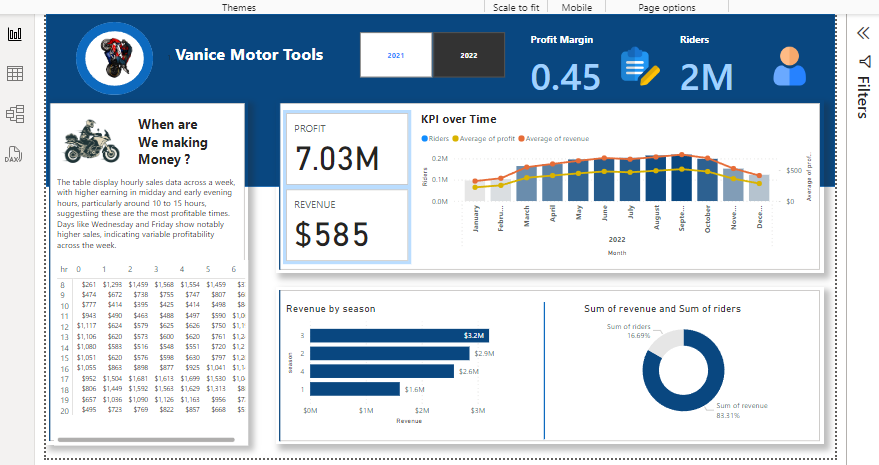

What the dashboard file says about the page in this screenshot:
{"tool":"powerbi","page":{"name":"Page 1","canvas":[1280,720],"ordinal":0},"visuals":[{"type":"shape","box":[0,0,1280,280],"z":0},{"type":"cardVisual","fields":{"Data":["Min(Query1.riders)"]},"box":[0,140.2,327.1,558.7],"z":1000},{"type":"cardVisual","fields":{"Data":["Min(Query1.riders)"]},"box":[372.5,140,887.5,280],"z":2000},{"type":"cardVisual","fields":{"Data":["Min(Query1.riders)"]},"box":[372.5,442.5,887.5,255],"z":3000},{"type":"cardVisual","fields":{"Data":["Min(Query1.riders)"]},"box":[0,140.2,144.3,117.8],"z":4000},{"type":"pivotTable","fields":{"Values":["Avg(Query1.revenue)"],"Columns":["Query1.weekday"],"Rows":["Query1.hr"]},"box":[12.2,398.2,314.9,300.7],"z":5000},{"type":"textbox","box":[144.3,158.5,140.2,99.6],"z":6000},{"type":"textbox","box":[12.2,258,300.7,140.2],"z":7000},{"type":"lineClusteredColumnComboChart","title":"KPI  over Time","fields":{"Category":["Query1.dteday.Variation.Date Hierarchy.Year","Query1.dteday.Variation.Date Hierarchy.Month","Query1.dteday.Variation.Date Hierarchy.Day"],"Y":["Sum(Query1.riders)"],"Y2":["Avg(Query1.profit)","Avg(Query1.revenue)"]},"box":[602.5,157.5,645,240],"z":8000},{"type":"clusteredBarChart","fields":{"Category":["Query1.season"],"Y":["Sum(Query1.revenue)"]},"box":[385,467.5,382.5,202.5],"z":9000},{"type":"donutChart","fields":{"Y":["Sum(Query1.revenue)","Sum(Query1.riders)"]},"box":[867.5,467.5,332.5,202.5],"z":10000},{"type":"shape","box":[800,467.5,17.5,222.5],"z":11000},{"type":"cardVisual","title":"KPI  over Time","fields":{"Data":["Sum(Query1.profit)","Avg(Query1.revenue)"]},"box":[385,155,208.3,250],"z":12000},{"type":"cardVisual","fields":{"Data":["Query1.Profit Margin","Sum(Query1.riders)"]},"box":[768.3,13.3,486.7,118.3],"z":13000},{"type":"shape","box":[48.3,13.3,125,118.3],"z":14000},{"type":"image","box":[61.6,19.5,87.6,89.2],"z":15000},{"type":"textbox","box":[186.7,40,280,65],"z":16000},{"type":"slicer","fields":{"Values":["Query1.yr"]},"box":[483.3,23.3,285,86.7],"z":16001}]}

Visuals, with their boxes on the page's 1280x720 design canvas (x1, y1, x2, y2). These are canvas units, not pixel positions in the 879x465 screenshot, which may show the page scaled, cropped or inside an application window:
shape: box=[0, 0, 1280, 280]
cardVisual - Min(Query1.riders): box=[0, 140, 327, 699]
cardVisual - Min(Query1.riders): box=[372, 140, 1260, 420]
cardVisual - Min(Query1.riders): box=[372, 442, 1260, 698]
cardVisual - Min(Query1.riders): box=[0, 140, 144, 258]
pivotTable - Avg(Query1.revenue) x Query1.weekday: box=[12, 398, 327, 699]
textbox: box=[144, 158, 284, 258]
textbox: box=[12, 258, 313, 398]
"KPI  over Time" lineClusteredColumnComboChart: box=[602, 158, 1248, 398]
clusteredBarChart - Query1.season x Sum(Query1.revenue): box=[385, 468, 768, 670]
donutChart - Sum(Query1.revenue) x Sum(Query1.riders): box=[868, 468, 1200, 670]
shape: box=[800, 468, 818, 690]
"KPI  over Time" cardVisual: box=[385, 155, 593, 405]
cardVisual - Query1.Profit Margin x Sum(Query1.riders): box=[768, 13, 1255, 132]
shape: box=[48, 13, 173, 132]
image: box=[62, 20, 149, 109]
textbox: box=[187, 40, 467, 105]
slicer - Query1.yr: box=[483, 23, 768, 110]
